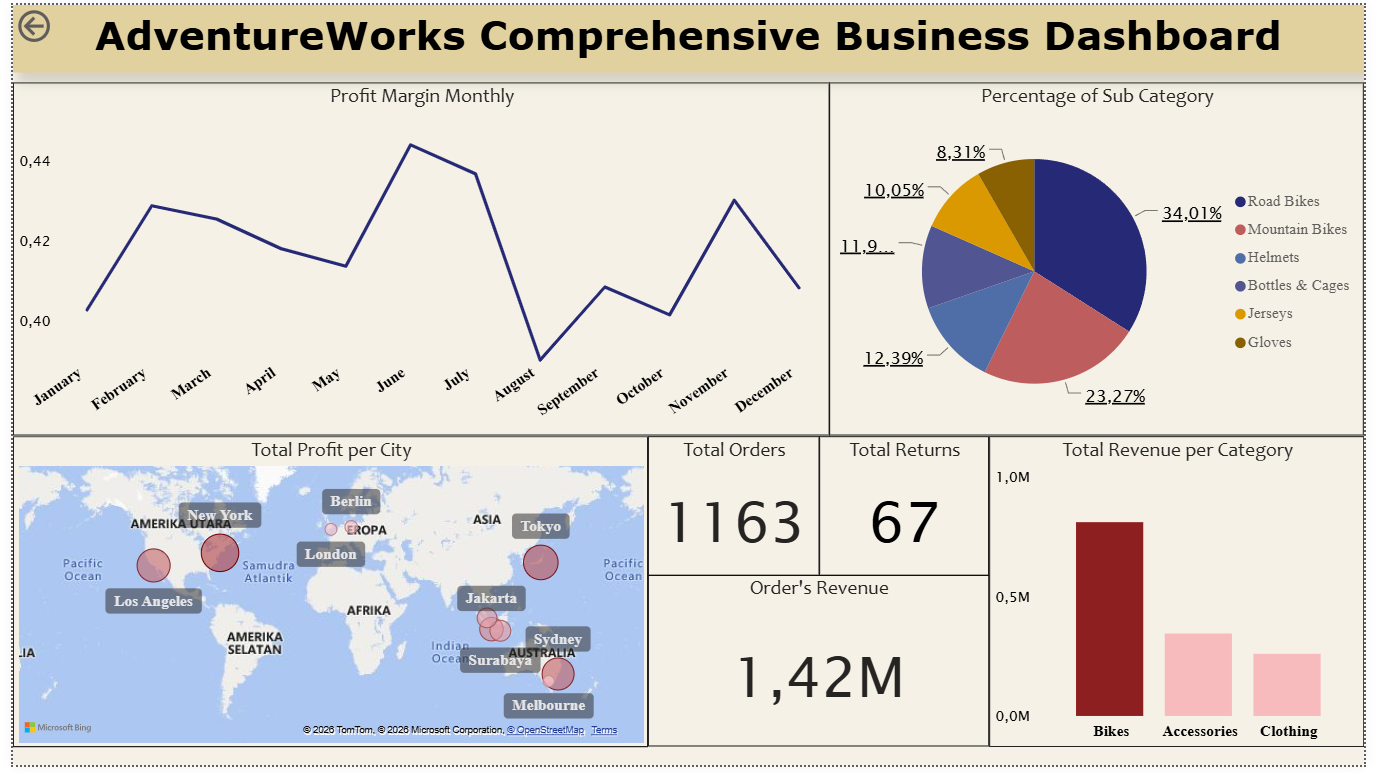

This screenshot's page, from the dashboard's own definition file:
{"tool":"powerbi","page":{"name":"Dashboard 1","canvas":[1280,720],"ordinal":0},"visuals":[{"type":"card","title":"Total Orders","fields":{"Values":["Sum(Sales.OrderQuantity)"]},"box":[601.6,408.2,162.1,132.3],"z":0},{"type":"card","title":"Total Returns","fields":{"Values":["Sum(Returns.ReturnQuantity)"]},"box":[763.7,408.2,160.7,132.3],"z":1000},{"type":"pieChart","title":"Percentage of Sub Category","fields":{"Category":["Products.SubCategory"],"Y":["Sales.TotalRevenue"]},"box":[773.7,74,506.3,334.2],"z":2000},{"type":"lineChart","title":"Profit Margin Monthly","fields":{"Category":["Calendar.Date.Variation.Date Hierarchy.Month"],"Y":["Sales.ProfitMargin"]},"box":[0,74,773.7,334.2],"z":3000},{"type":"map","title":"Total Profit per City","fields":{"Category":["Customers.City"],"Size":["Sum(Sales.Profit)"]},"box":[0,408.2,601.6,294.4],"z":4000},{"type":"textbox","box":[0,0,1280,64],"z":5000},{"type":"clusteredColumnChart","title":"Total Revenue per Category","fields":{"Category":["Products.Category"],"Y":["Sum(Sales.SalesAmount)"]},"box":[924.4,408.2,355.6,294.4],"z":6000},{"type":"actionButton","box":[0,0,100,40],"z":7000},{"type":"card","title":"Order''s Revenue","fields":{"Values":["Sum(Sales.SalesAmount)"]},"box":[601.6,540.4,322.8,162.1],"z":8000}]}

Visuals, with their boxes in screenshot pixels (x1, y1, x2, y2), scaled from the page's 1280x720 canvas onto the 1375x773 screenshot:
"Total Orders" card: pyautogui.locateOnScreen(646, 438, 820, 580)
"Total Returns" card: pyautogui.locateOnScreen(820, 438, 993, 580)
"Percentage of Sub Category" pieChart: pyautogui.locateOnScreen(831, 79, 1374, 438)
"Profit Margin Monthly" lineChart: pyautogui.locateOnScreen(0, 79, 831, 438)
"Total Profit per City" map: pyautogui.locateOnScreen(0, 438, 646, 754)
textbox: pyautogui.locateOnScreen(0, 0, 1374, 69)
"Total Revenue per Category" clusteredColumnChart: pyautogui.locateOnScreen(993, 438, 1374, 754)
actionButton: pyautogui.locateOnScreen(0, 0, 107, 43)
"Order''s Revenue" card: pyautogui.locateOnScreen(646, 580, 993, 754)
